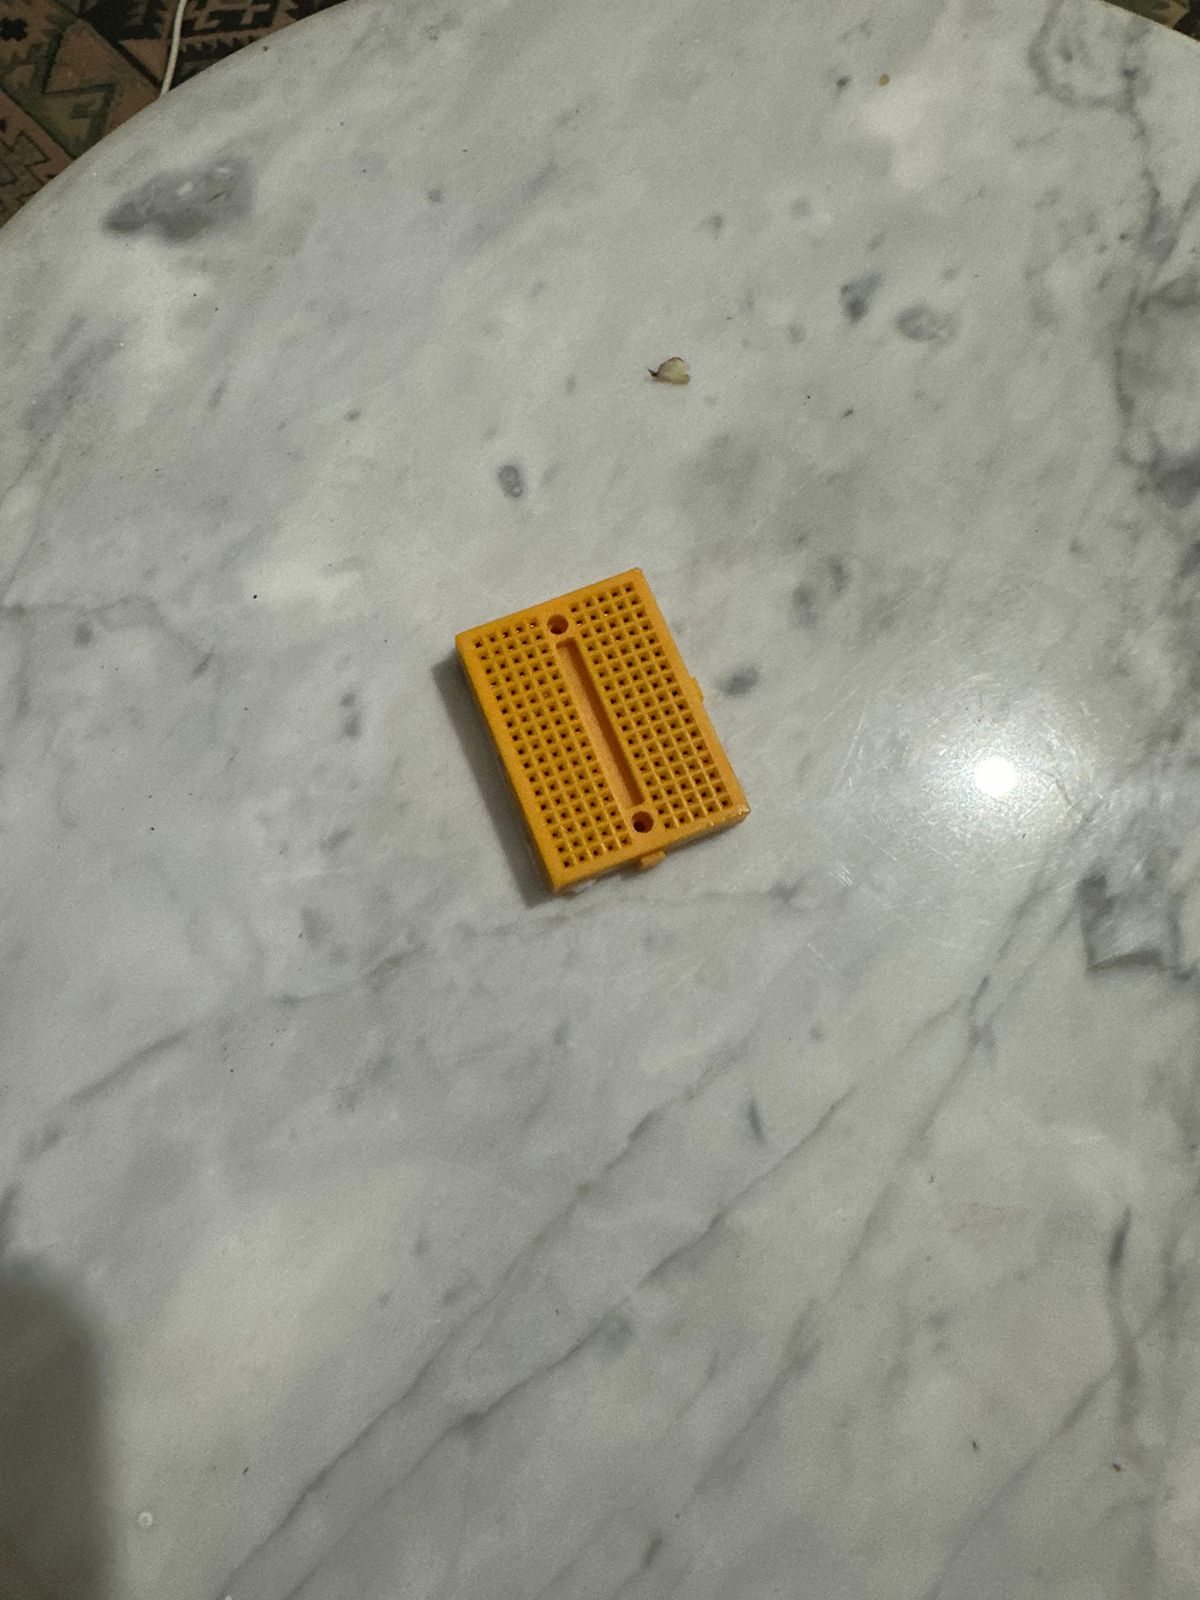breadboard: (447, 563, 750, 889)
